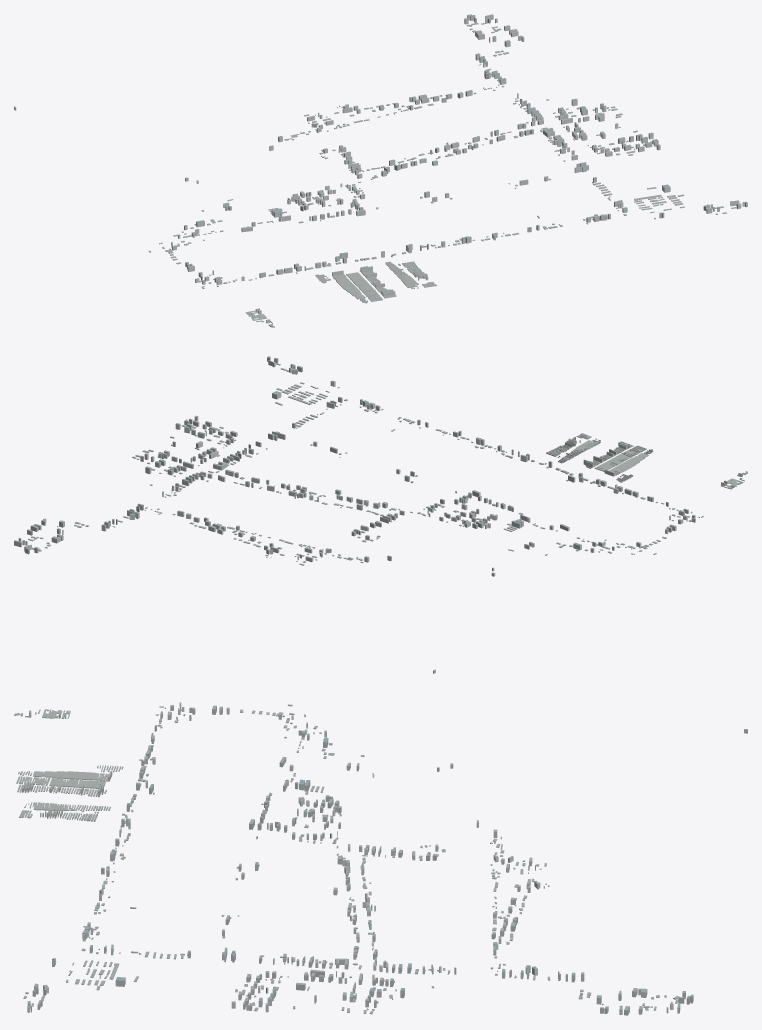
The model's file is far.glb.
3 renders of one model, top to bottom at view 1: azimuth 30°, elevation 25°; view 2: azimuth 150°, elevation 25°; view 3: azimuth 270°, elevation 25°, orthographic. The views are drawn at different scales.
Bounding box in the file's own units: 2082 × 22.95 × 2080.
